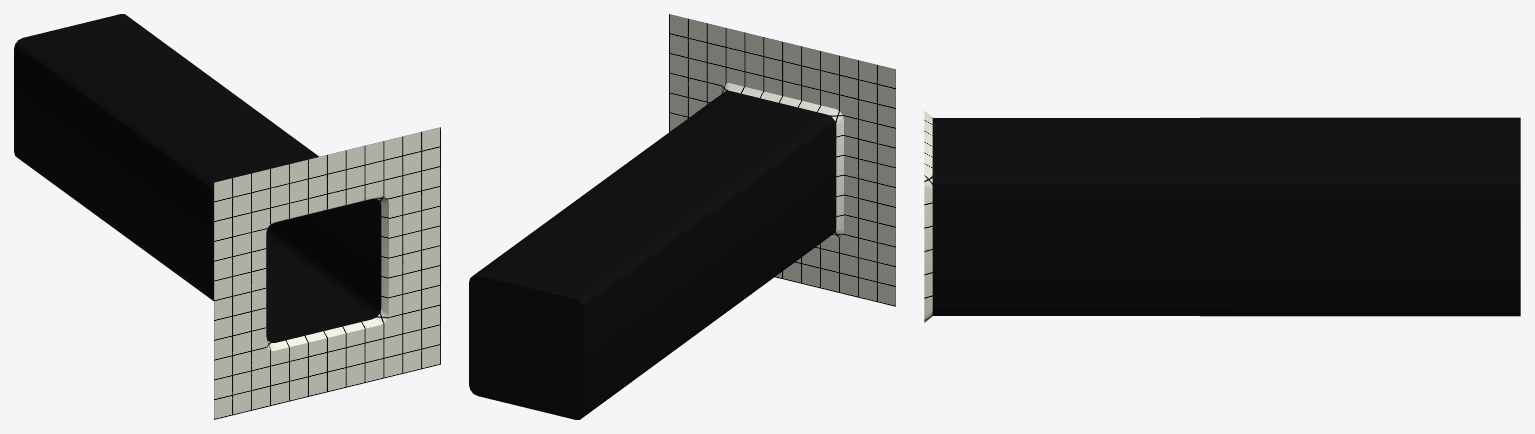
The model's file is Wall_wHole.fbx.
3 renders of one model, left to right at view 1: azimuth 30°, elevation 25°; view 2: azimuth 150°, elevation 25°; view 3: azimuth 270°, elevation 25°, orthographic. The views are drawn at different scales.
Visible parts, largest first — view 1: Wall_wHole; view 2: Wall_wHole; view 3: Wall_wHole.
Part boxes in pixels (x1,y1,x2,y2): Wall_wHole: (14, 14, 440, 419); Wall_wHole: (469, 14, 895, 419); Wall_wHole: (924, 111, 1520, 322).
Size of the model in its own units: 200 by 200 by 391.
